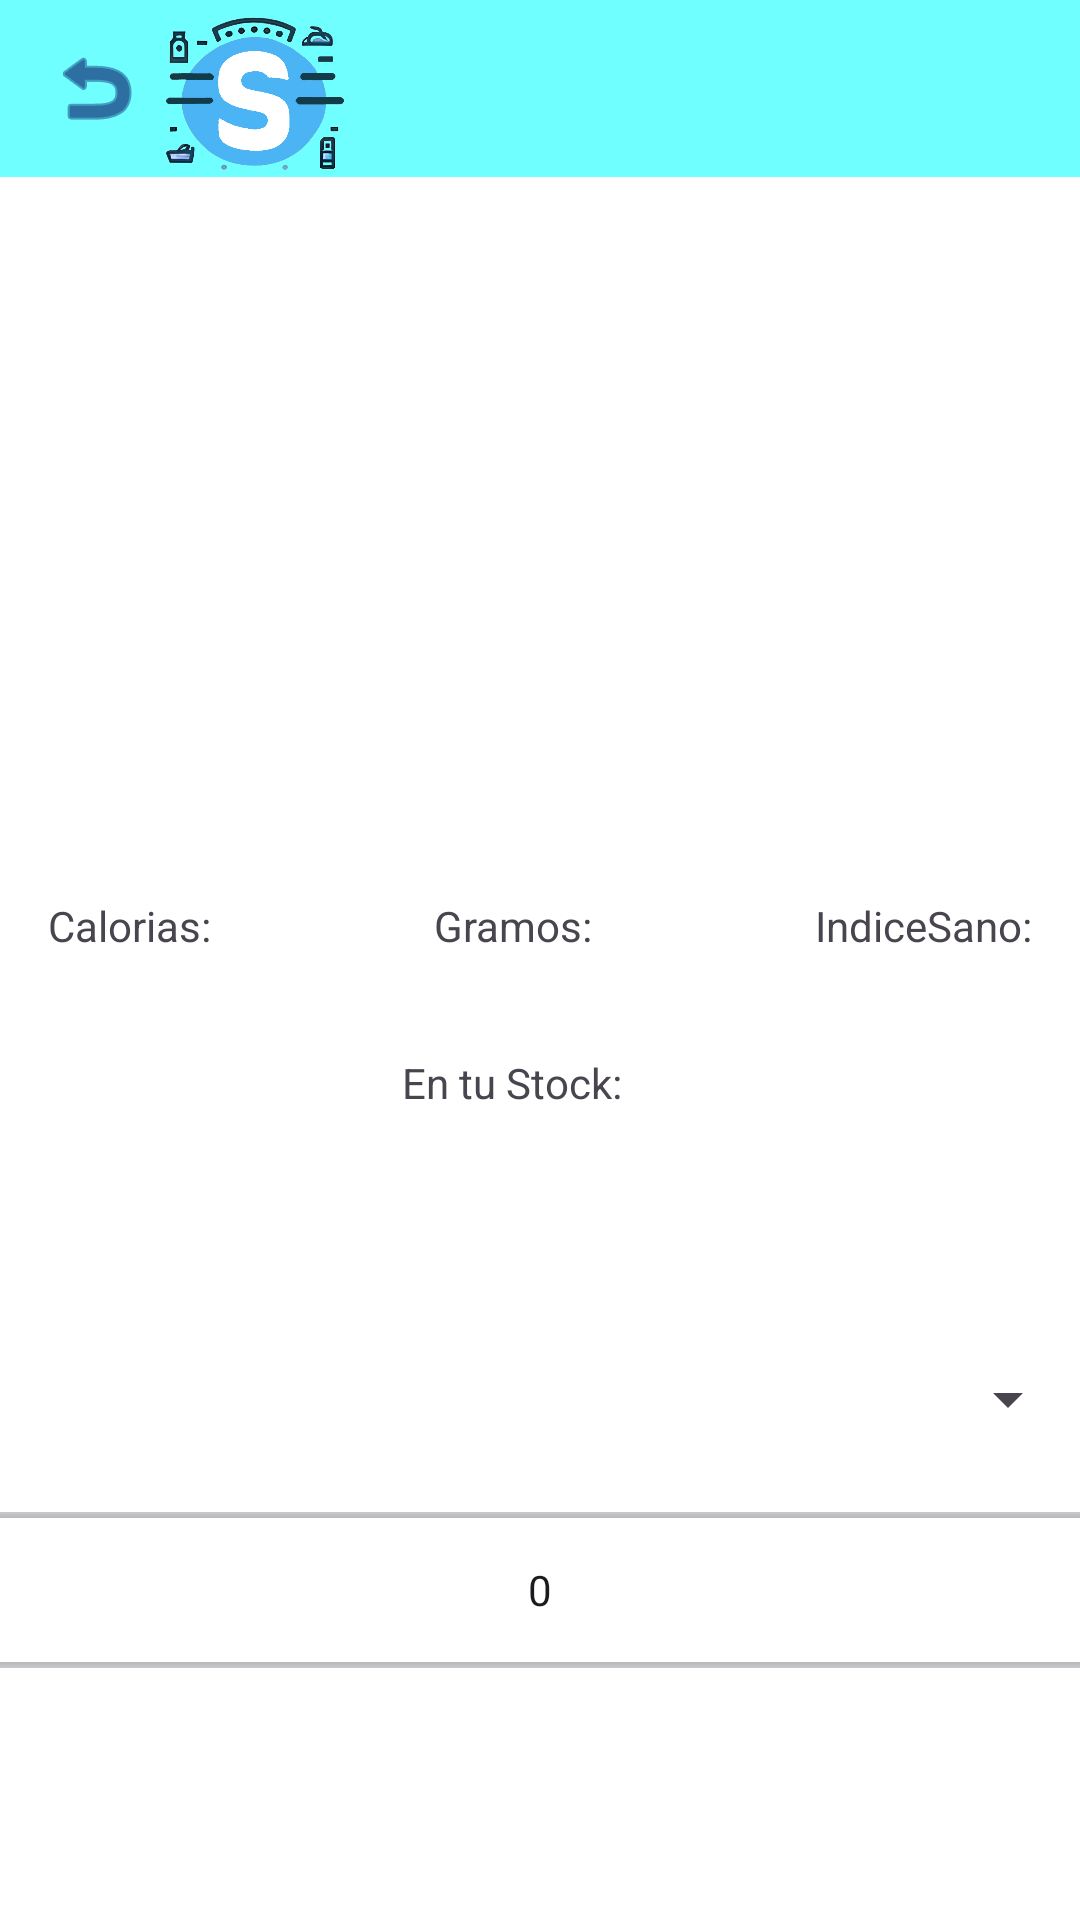

Icons on this 1080px×1920px Android screen, each with its box as detection(x1, y1, x2, y2):
revert: detection(63, 57, 132, 120)
